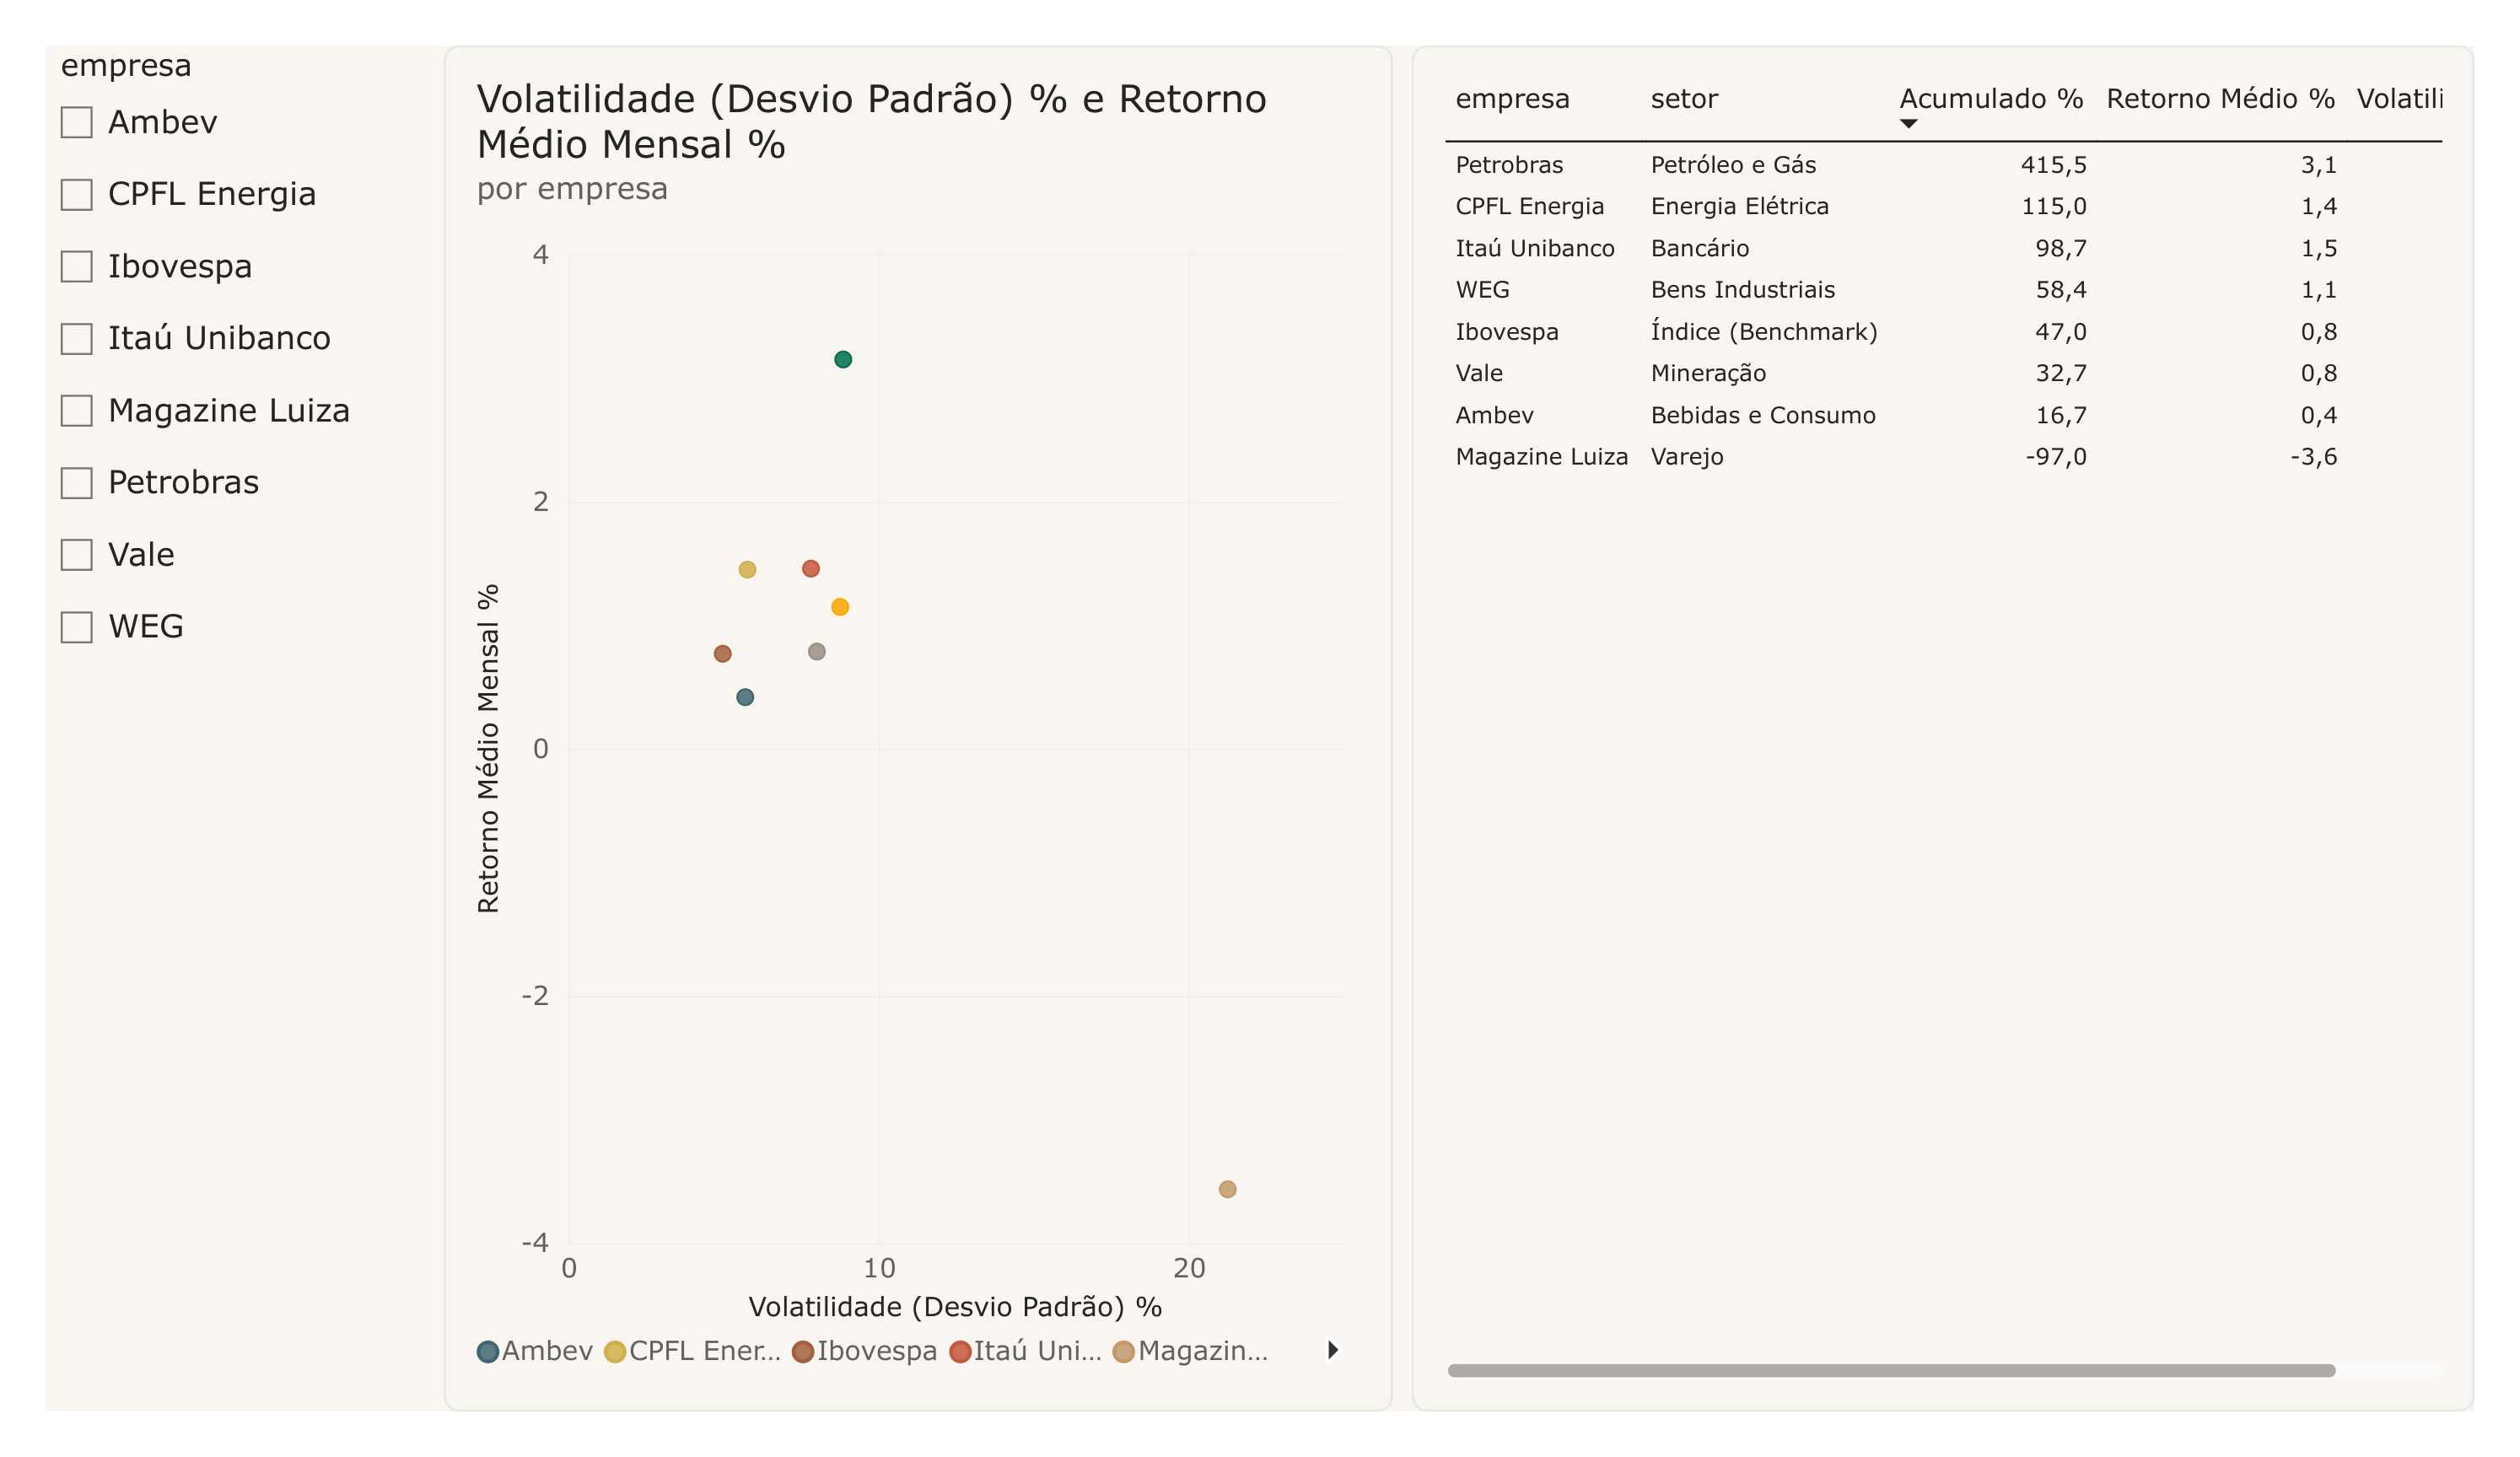

The page's visual inventory and layout, read from the dashboard file:
{"tool":"powerbi","page":{"name":"Comparativo entre Ações","canvas":[1280,720],"ordinal":1},"visuals":[{"type":"slicer","fields":{"Values":["dim_ativos.empresa"]},"box":[0,0,200,720],"z":0},{"type":"scatterChart","fields":{"Series":["dim_ativos.empresa"],"X":["fato_retornos.Volatilidade (Desvio Padrão) %"],"Y":["fato_retornos.Retorno Médio Mensal %"]},"box":[210,0,500,720],"z":1},{"type":"tableEx","fields":{"Values":["dim_ativos.empresa","dim_ativos.setor","fato_retornos.Retorno Acumulado %","fato_retornos.Retorno Médio Mensal %","fato_retornos.Volatilidade (Desvio Padrão) %"]},"box":[720,0,560,720],"z":2}]}

Visuals, with their boxes in screenshot pixels (x1, y1, x2, y2), scaled from the page's 1280x720 canvas onto the 2520x1457 screenshot:
slicer - dim_ativos.empresa: [x1=0, y1=0, x2=394, y2=1456]
scatterChart - dim_ativos.empresa x fato_retornos.Volatilidade (Desvio Padrão) %: [x1=413, y1=0, x2=1397, y2=1456]
tableEx - dim_ativos.empresa x dim_ativos.setor: [x1=1418, y1=0, x2=2519, y2=1456]
